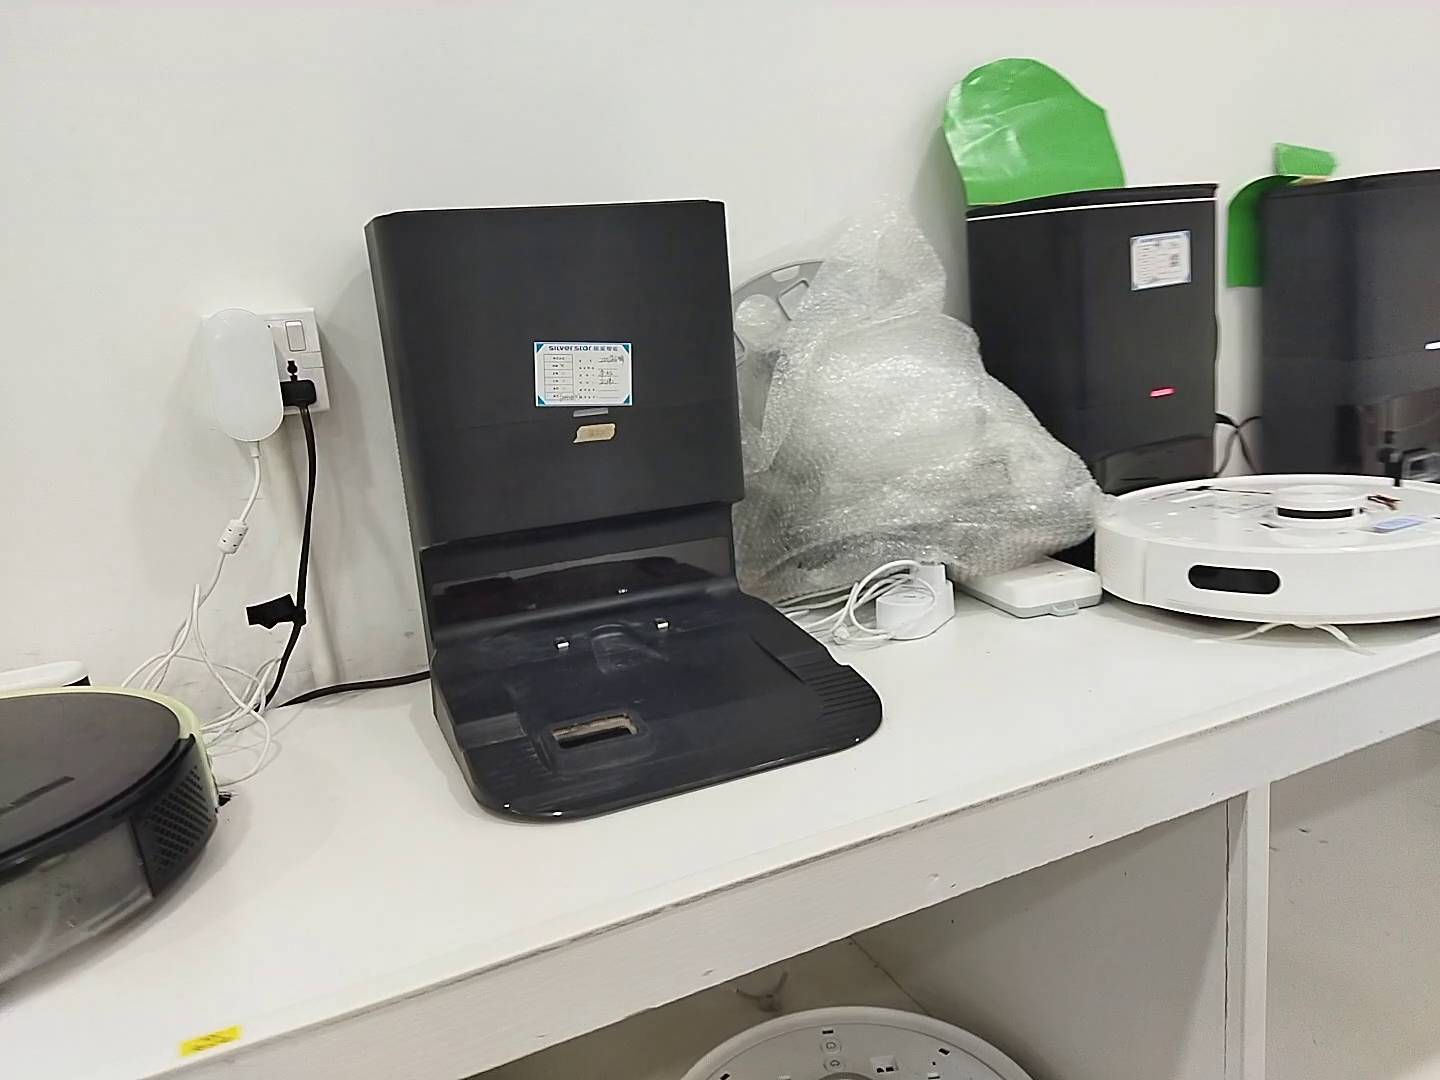dust collecting barrel: (363, 196, 884, 822), (965, 184, 1219, 493), (1257, 164, 1440, 483)
